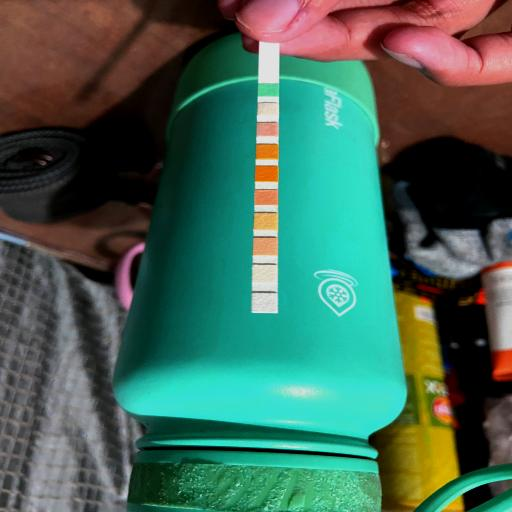Bilirubin: (258, 102, 278, 116)
Blood: (255, 166, 278, 182)
Glucose: (258, 84, 279, 96)
Ketone: (257, 123, 279, 137)
Leukocytes: (252, 292, 278, 312)
Nitrite: (252, 265, 278, 283)
Protein: (254, 214, 278, 230)
SpGravity: (256, 144, 278, 160)
Urobilinogen: (253, 238, 278, 256)
pH: (254, 190, 278, 206)
strip: (252, 44, 279, 313)
